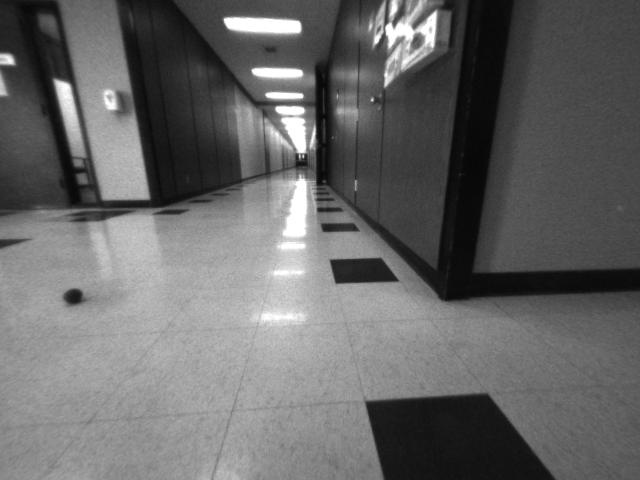dogtoy: (55, 280, 92, 311)
